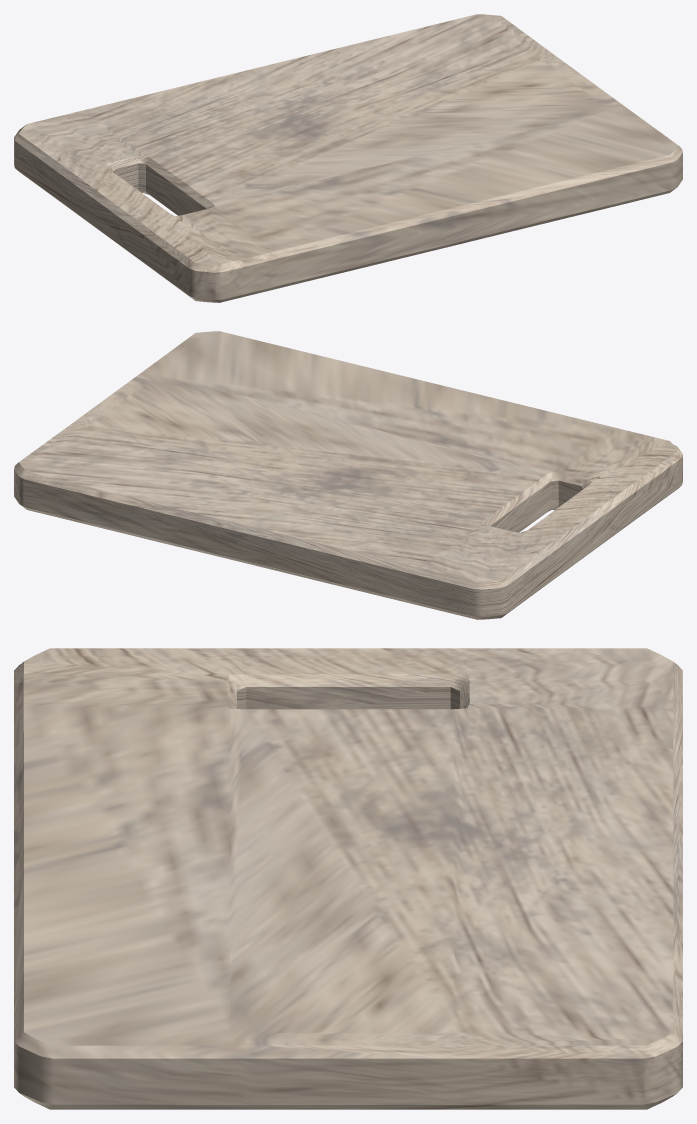
The model's file is ChoppingBoard.fbx.
3 renders of one model, top to bottom at view 1: azimuth 30°, elevation 25°; view 2: azimuth 150°, elevation 25°; view 3: azimuth 270°, elevation 25°, orthographic. The views are drawn at different scales.
Visible parts, largest first — view 1: chopping_board; view 2: chopping_board; view 3: chopping_board.
Part boxes in pixels (x1,y1,x2,y2): chopping_board: (14,14,682,302); chopping_board: (14,331,682,619); chopping_board: (14,648,682,1109).
Bounding box in the file's own units: 47.48 × 3.5 × 33.11.
